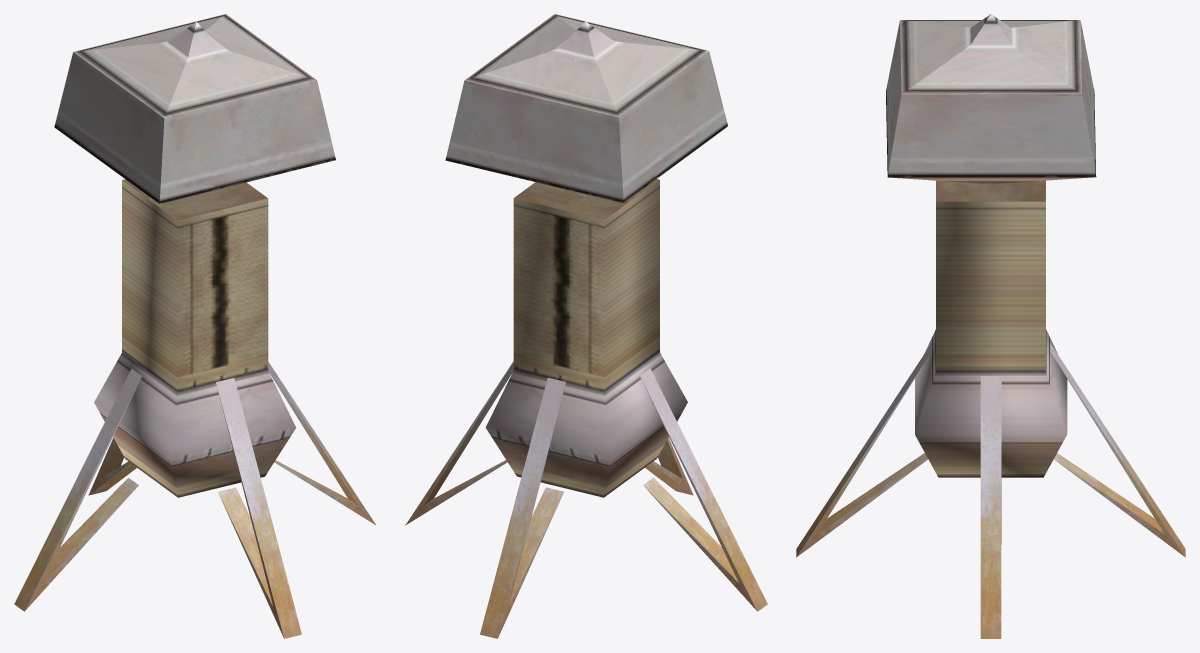
The model's file is eqp_slave_brazier_l2.fbx.
The picture shows the model from 3 angles, left to right: view 1: azimuth 30°, elevation 25°; view 2: azimuth 150°, elevation 25°; view 3: azimuth 270°, elevation 25°; orthographic projection.
Visible parts, largest first — view 1: mesh_node; view 2: mesh_node; view 3: mesh_node.
Boxes of the visible parts, x1,y1,x2,y2 form: mesh_node: [14, 14, 376, 638]; mesh_node: [405, 14, 767, 638]; mesh_node: [796, 14, 1185, 638].
Size of the model in its own units: 0.4467 by 0.658 by 0.43.
